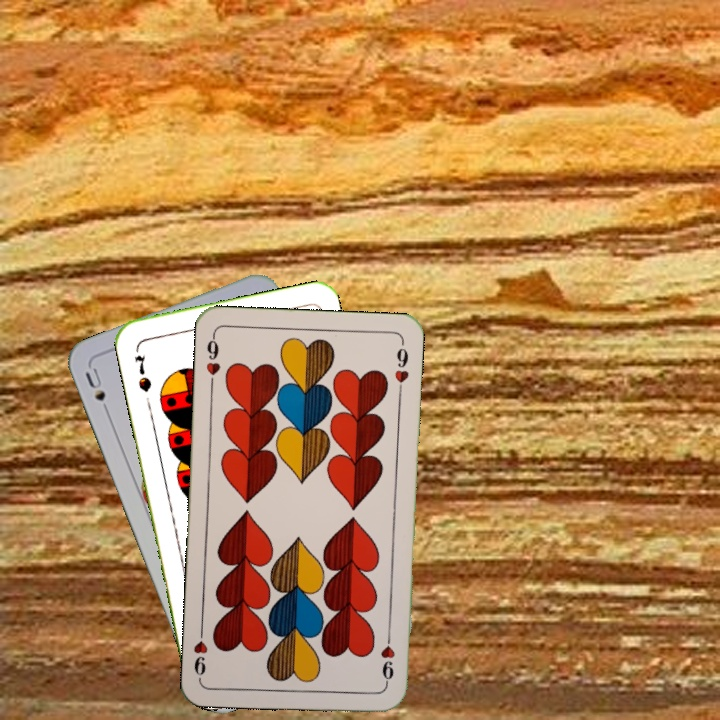H9: (202, 331, 223, 390), (376, 628, 397, 687)
S7: (130, 351, 154, 395)
SU: (81, 363, 114, 420)
